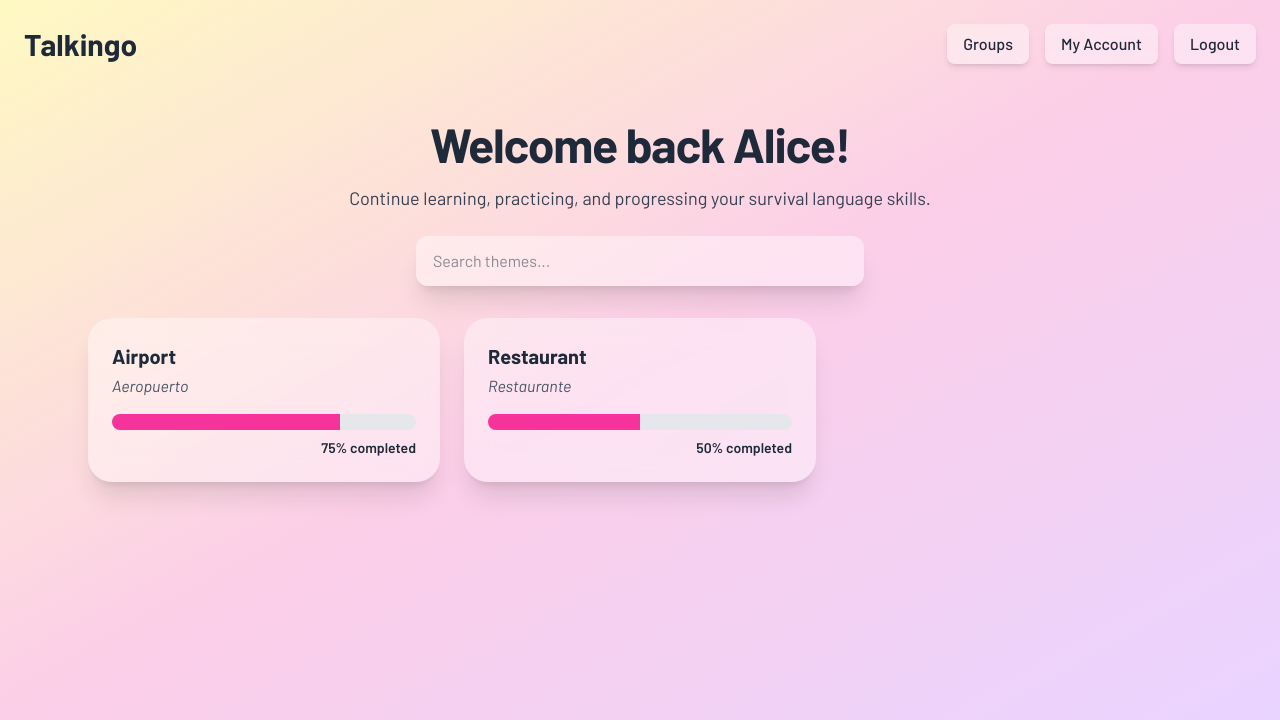
Test: ThemesPage › filters themes based on search
Type "airp" into the field with placeholder "Search themes..." at (640, 261), box [416,236,864,286]
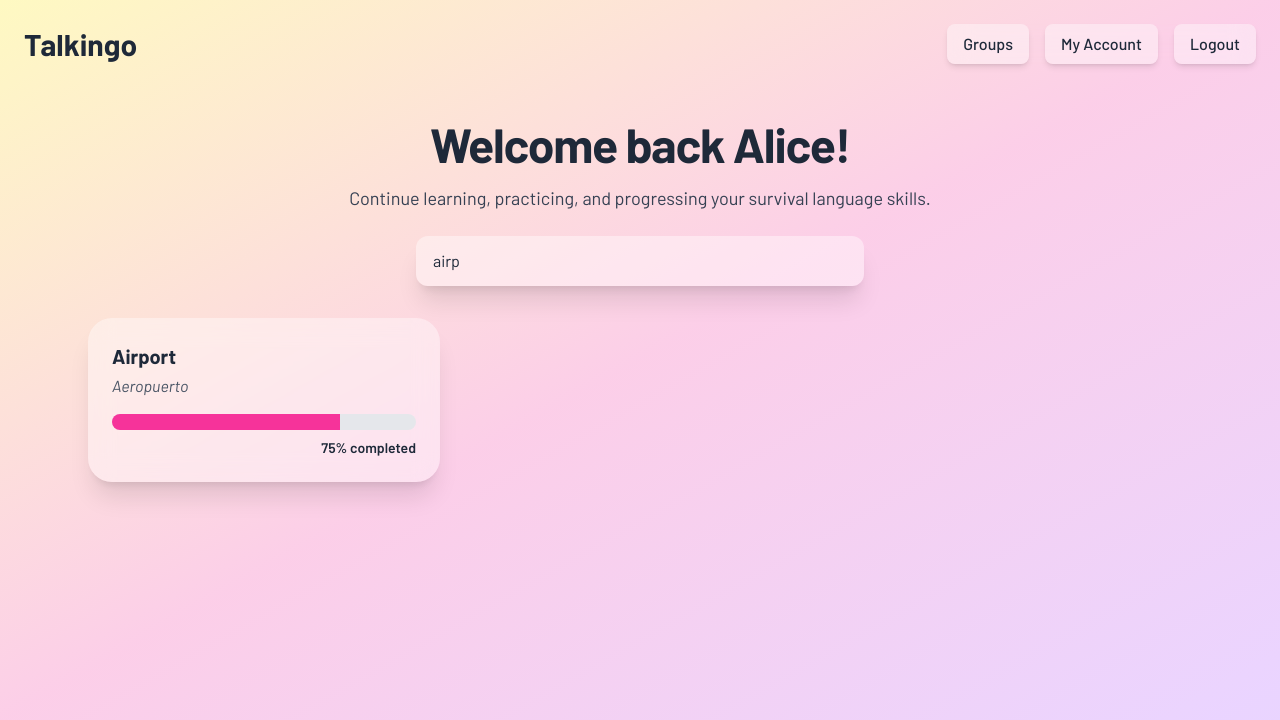
Check: the heading "Airport" is shown, box [112,344,176,368]
Check: the heading "Restaurant" is gone
